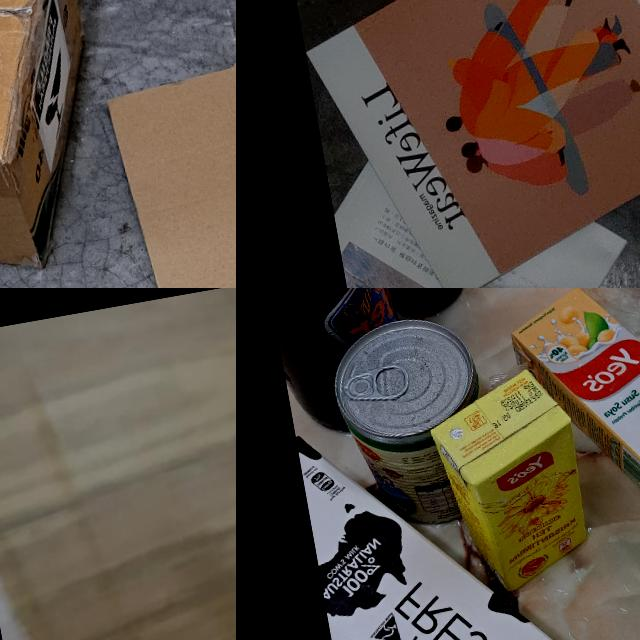aba de lata: (346, 358, 410, 406)
caixinha: (295, 383, 640, 640), (422, 361, 600, 606), (506, 288, 640, 522)
lata: (327, 311, 497, 538)
papel: (283, 0, 640, 288)
papelão: (0, 0, 129, 288), (103, 33, 236, 288)
